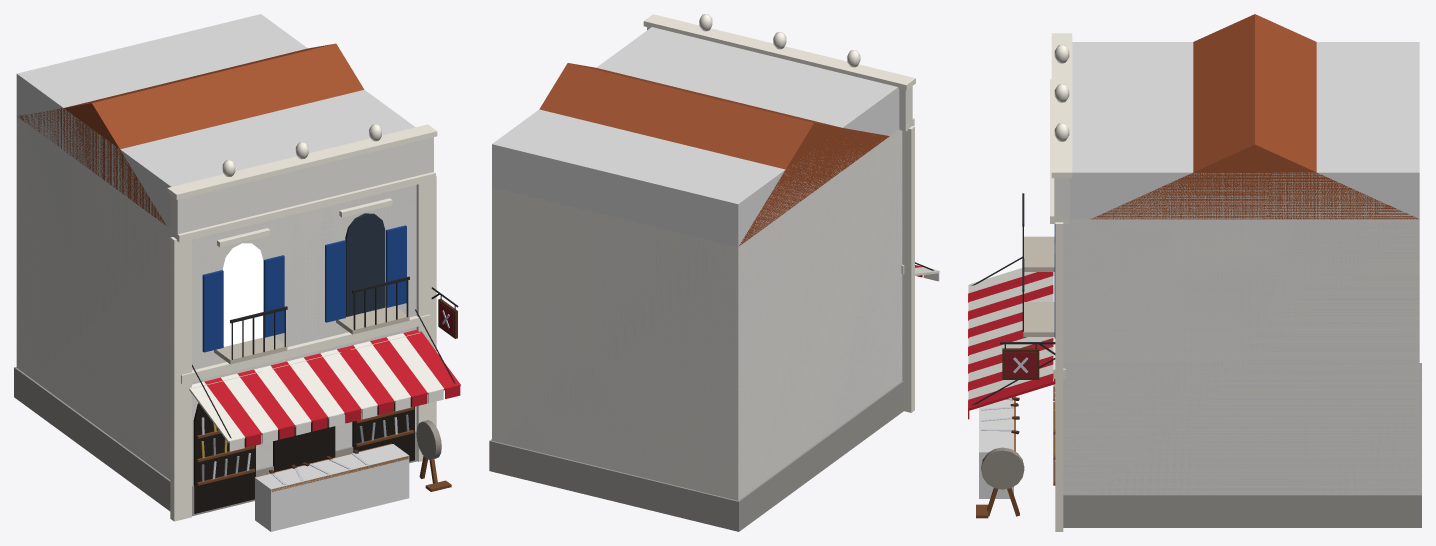
File: tienda_amolador.glb
3 renders of one model, left to right at view 1: azimuth 30°, elevation 25°; view 2: azimuth 150°, elevation 25°; view 3: azimuth 270°, elevation 25°, orthographic. The views are drawn at different scales.
Parts seen in each view (by area): view 1: tienda_amolador_Malla, COL_0, COL_1; view 2: tienda_amolador_Malla, COL_0; view 3: tienda_amolador_Malla, COL_0, COL_1.
Part boxes in pixels (x1=…): tienda_amolador_Malla: x1=14, y1=43, x2=460, y2=521; COL_0: x1=16, y1=14, x2=416, y2=483; COL_1: x1=255, y1=444, x2=409, y2=531; tienda_amolador_Malla: x1=489, y1=14, x2=939, y2=531; COL_0: x1=492, y1=27, x2=902, y2=500; tienda_amolador_Malla: x1=968, y1=14, x2=1421, y2=531; COL_0: x1=1063, y1=42, x2=1419, y2=494; COL_1: x1=979, y1=397, x2=1013, y2=498.
Size of the model in its own units: 6.44 by 8.21 by 8.81.
